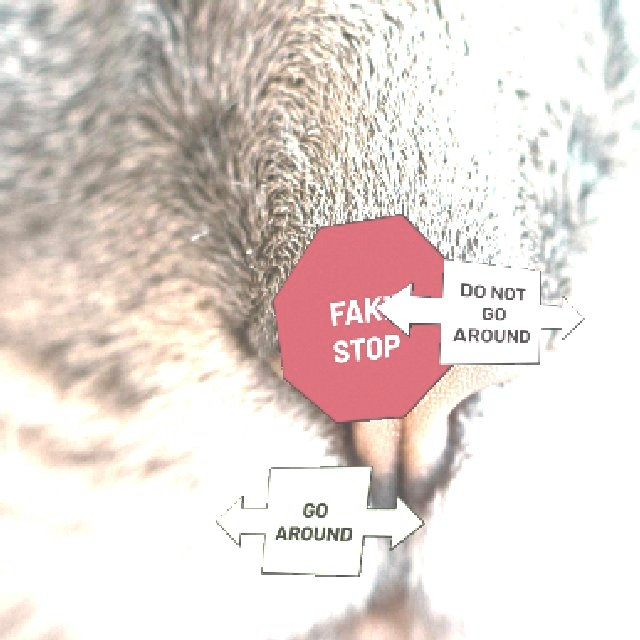DO_NOT_GO_AROUND: (373, 257, 583, 364)
FAKE_STOP: (271, 212, 460, 422)
GO_AROUND: (214, 464, 424, 576)
